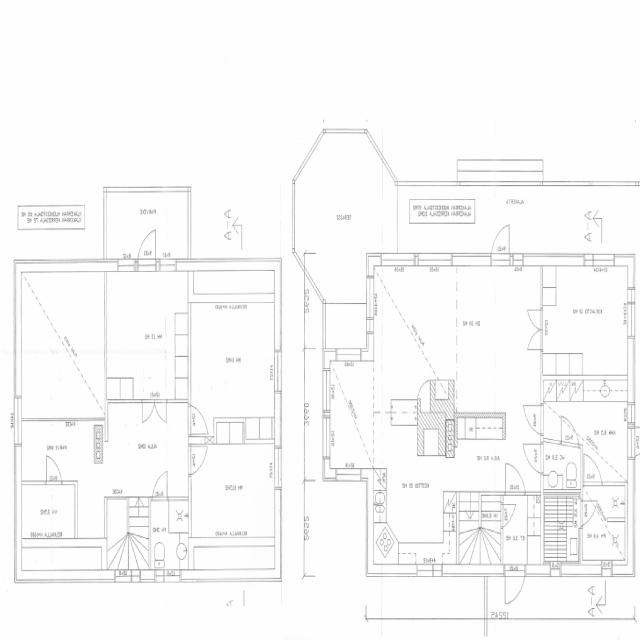door: (505, 566, 525, 609), (138, 230, 156, 272), (492, 226, 509, 266), (561, 414, 580, 448), (506, 461, 525, 495), (188, 405, 209, 435), (523, 444, 543, 474), (188, 446, 208, 476), (523, 406, 543, 435), (584, 455, 601, 487), (47, 457, 62, 487), (152, 474, 168, 501), (581, 501, 598, 526), (627, 428, 640, 458), (501, 505, 517, 528), (528, 330, 542, 350), (528, 310, 542, 330), (155, 400, 167, 422), (143, 400, 155, 422)
